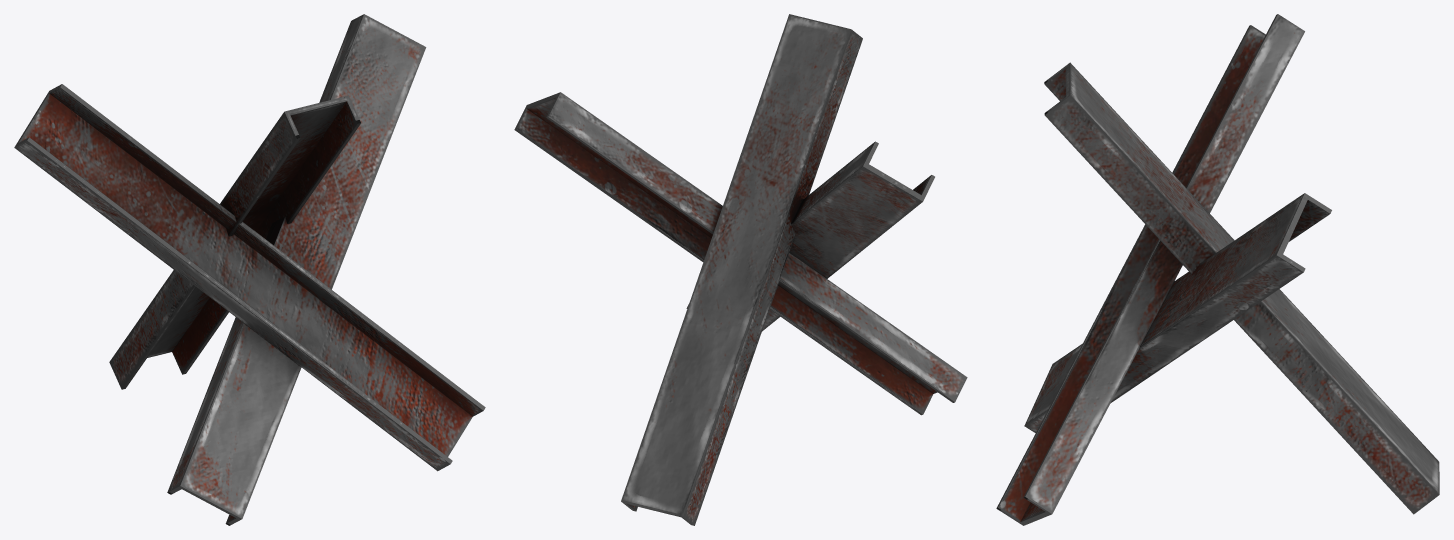
Rendered from Zagrazhdenie.fbx.
3 renders of one model, left to right at view 1: azimuth 30°, elevation 25°; view 2: azimuth 150°, elevation 25°; view 3: azimuth 270°, elevation 25°, orthographic. The views are drawn at different scales.
Visible parts, largest first — view 1: Box025; view 2: Box025; view 3: Box025.
Boxes of the visible parts, <box> form: Box025: <box>14,14,485,525</box>; Box025: <box>514,14,967,525</box>; Box025: <box>996,14,1439,525</box>.
Size of the model in its own units: 107 by 98.82 by 94.7.
